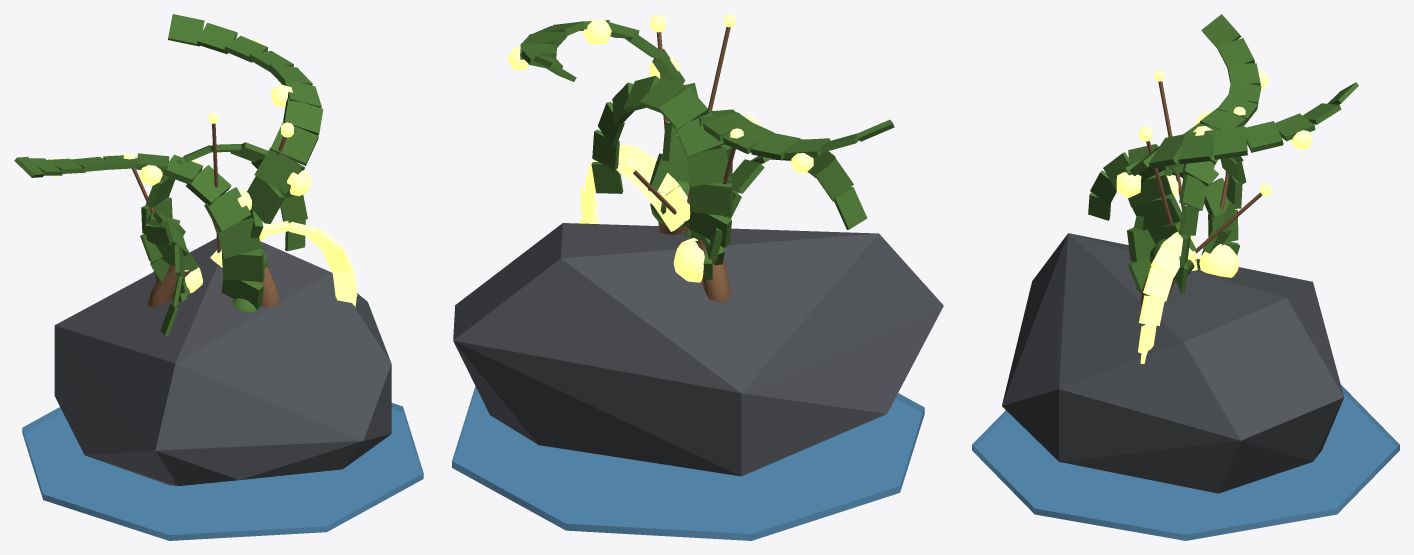
Rendered from node-reed-kelp.glb.
3 views of the same model, side by side, from view 1: azimuth 30°, elevation 25°; view 2: azimuth 150°, elevation 25°; view 3: azimuth 270°, elevation 25° (orthographic). The views are drawn at different scales.
Parts seen in each view (by area): view 1: Mesh_RockBase, Mesh_WaterPuddle, Mesh_Mesh_Ribbon1_Seg3, Mesh_Mesh_Ribbon3_Seg2, Mesh_Mesh_Ribbon3_Seg1, Mesh_Mesh_Ribbon3_Seg3, Mesh_Mesh_Ribbon1_Seg2, Mesh_Mesh_Ribbon1_Seg4, Mesh_Mesh_Ribbon1_Seg5, Mesh_Mesh_Ribbon3_Seg4, Mesh_Mesh_Ribbon1_Seg11, Mesh_Mesh_Ribbon3_Seg0 (+13 smaller); view 2: Mesh_RockBase, Mesh_WaterPuddle, Mesh_Mesh_Ribbon2_Seg3, Mesh_Mesh_Ribbon2_Seg2, Mesh_Mesh_Ribbon2_Seg5, Mesh_Bladder2, Mesh_Mesh_Ribbon2_Seg4, Mesh_Mesh_Ribbon2_Seg1, Mesh_Stipe2, Mesh_Mesh_Ribbon5_Seg0, Mesh_Mesh_Ribbon4_Seg8, Mesh_Mesh_Ribbon2_Seg6 (+15 smaller); view 3: Mesh_RockBase, Mesh_WaterPuddle, Mesh_Mesh_Ribbon1_Seg1, Mesh_Mesh_Ribbon1_Seg7, Mesh_Bladder2, Mesh_Mesh_Ribbon1_Seg6, Mesh_Mesh_Ribbon1_Seg8, Mesh_Mesh_Ribbon1_Seg5, Mesh_Mesh_Ribbon1_Seg2, Mesh_Mesh_Ribbon3_Seg11, Mesh_Mesh_Ribbon2_Seg8, Mesh_Mesh_Ribbon3_Seg1 (+14 smaller).
Part boxes in pixels (<box>): Mesh_RockBase: <box>54,238,391,486</box>; Mesh_WaterPuddle: <box>22,403,423,540</box>; Mesh_Mesh_Ribbon1_Seg3: <box>254,147,304,195</box>; Mesh_Mesh_Ribbon3_Seg2: <box>216,218,261,258</box>; Mesh_Mesh_Ribbon3_Seg1: <box>222,251,264,281</box>; Mesh_Mesh_Ribbon3_Seg3: <box>204,187,251,232</box>; Mesh_Mesh_Ribbon1_Seg2: <box>247,176,284,223</box>; Mesh_Mesh_Ribbon1_Seg4: <box>270,121,318,165</box>; Mesh_Mesh_Ribbon1_Seg5: <box>283,98,323,135</box>; Mesh_Mesh_Ribbon3_Seg4: <box>186,165,231,205</box>; Mesh_Mesh_Ribbon1_Seg11: <box>168,14,204,46</box>; Mesh_Mesh_Ribbon3_Seg0: <box>221,279,263,309</box>; Mesh_RockBase: <box>453,223,943,476</box>; Mesh_WaterPuddle: <box>452,386,924,540</box>; Mesh_Mesh_Ribbon2_Seg3: <box>685,147,731,186</box>; Mesh_Mesh_Ribbon2_Seg2: <box>689,182,733,216</box>; Mesh_Mesh_Ribbon2_Seg5: <box>659,88,708,129</box>; Mesh_Bladder2: <box>673,238,704,282</box>; Mesh_Mesh_Ribbon2_Seg4: <box>675,113,723,157</box>; Mesh_Mesh_Ribbon2_Seg1: <box>689,212,731,247</box>; Mesh_Stipe2: <box>695,240,731,302</box>; Mesh_Mesh_Ribbon5_Seg0: <box>654,186,690,231</box>; Mesh_Mesh_Ribbon4_Seg8: <box>815,158,853,201</box>; Mesh_Mesh_Ribbon2_Seg6: <box>640,77,686,112</box>; Mesh_RockBase: <box>1002,233,1344,493</box>; Mesh_WaterPuddle: <box>972,385,1399,540</box>; Mesh_Mesh_Ribbon1_Seg1: <box>1132,193,1181,230</box>; Mesh_Mesh_Ribbon1_Seg7: <box>1212,126,1247,159</box>; Mesh_Bladder2: <box>1199,244,1239,277</box>; Mesh_Mesh_Ribbon1_Seg6: <box>1178,130,1215,164</box>; Mesh_Mesh_Ribbon1_Seg8: <box>1245,121,1283,152</box>; Mesh_Mesh_Ribbon1_Seg5: <box>1148,134,1184,168</box>; Mesh_Mesh_Ribbon1_Seg2: <box>1128,170,1171,206</box>; Mesh_Mesh_Ribbon3_Seg11: <box>1201,14,1240,48</box>; Mesh_Mesh_Ribbon2_Seg8: <box>1179,174,1206,210</box>; Mesh_Mesh_Ribbon3_Seg1: <box>1127,227,1155,261</box>.
Size of the model in its own units: 0.6595 by 0.6352 by 0.64.
3 materials, 3 textured.
